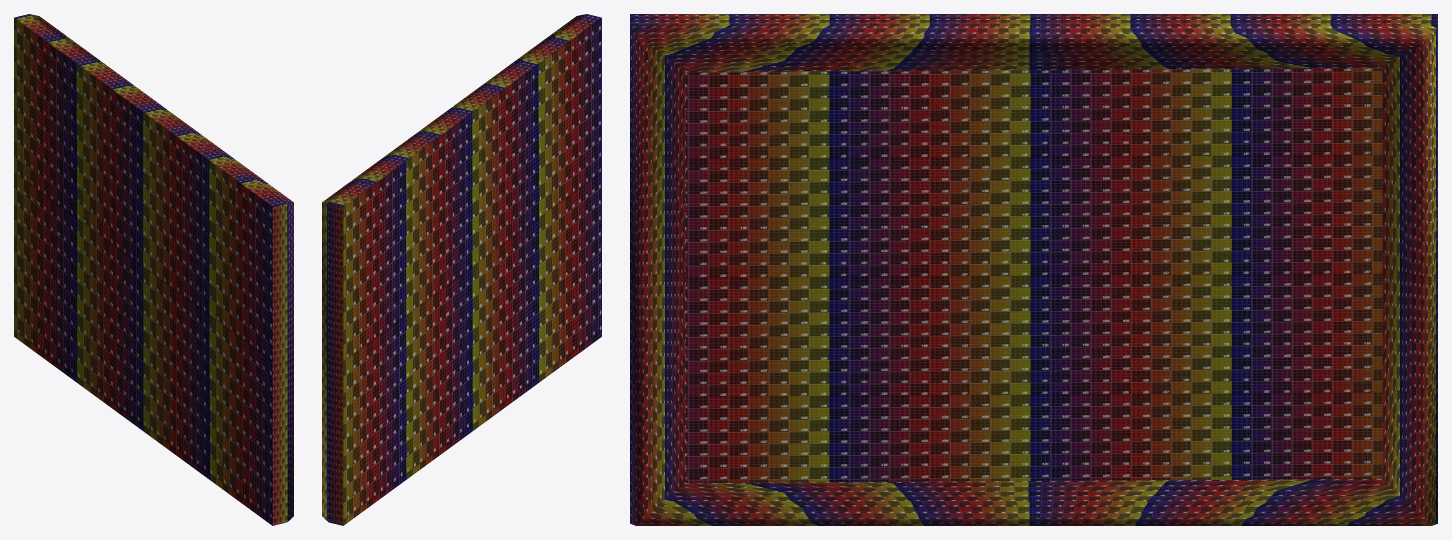
The model's file is paintingtest02.fbx.
3 views of the same model, side by side, from view 1: azimuth 30°, elevation 25°; view 2: azimuth 150°, elevation 25°; view 3: azimuth 270°, elevation 25° (orthographic). The views are drawn at different scales.
Visible parts, largest first — view 1: polySurface2; view 2: polySurface2; view 3: polySurface2.
Part boxes in pixels (x1,y1,x2,y2): polySurface2: [14, 14, 293, 525]; polySurface2: [322, 14, 601, 525]; polySurface2: [630, 14, 1437, 525].
Bounding box in the file's own units: 2.83 × 36.97 × 54.32.
